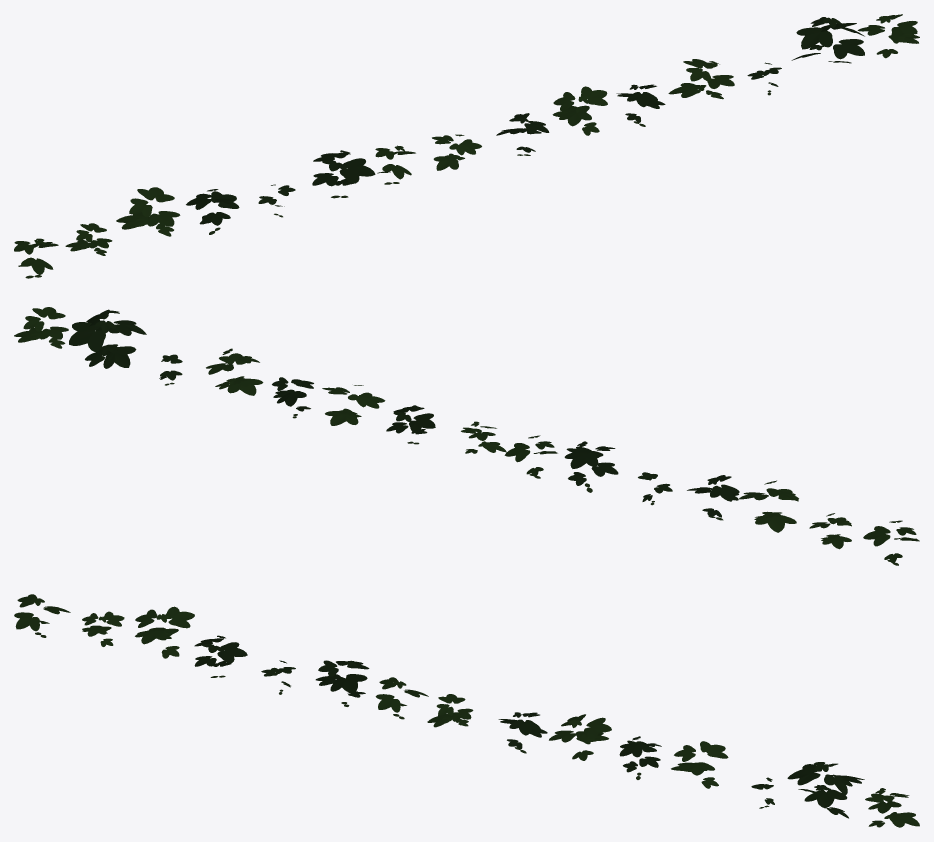
The model's file is ROW_16_SEG3_foliage.dae.
3 views of the same model, one above another, from view 1: azimuth 30°, elevation 25°; view 2: azimuth 150°, elevation 25°; view 3: azimuth 330°, elevation 25° (orthographic). The views are drawn at different scales.
Visible parts, largest first — view 1: ROW_16_SEG3_foliage; view 2: ROW_16_SEG3_foliage; view 3: ROW_16_SEG3_foliage.
Part boxes in pixels (box(x1,y1,x2,y2)): ROW_16_SEG3_foliage: box(14, 14, 919, 278); ROW_16_SEG3_foliage: box(14, 307, 919, 565); ROW_16_SEG3_foliage: box(14, 594, 919, 827).
Bounding box in the file's own units: 4.54 × 0.325 × 0.2993.
